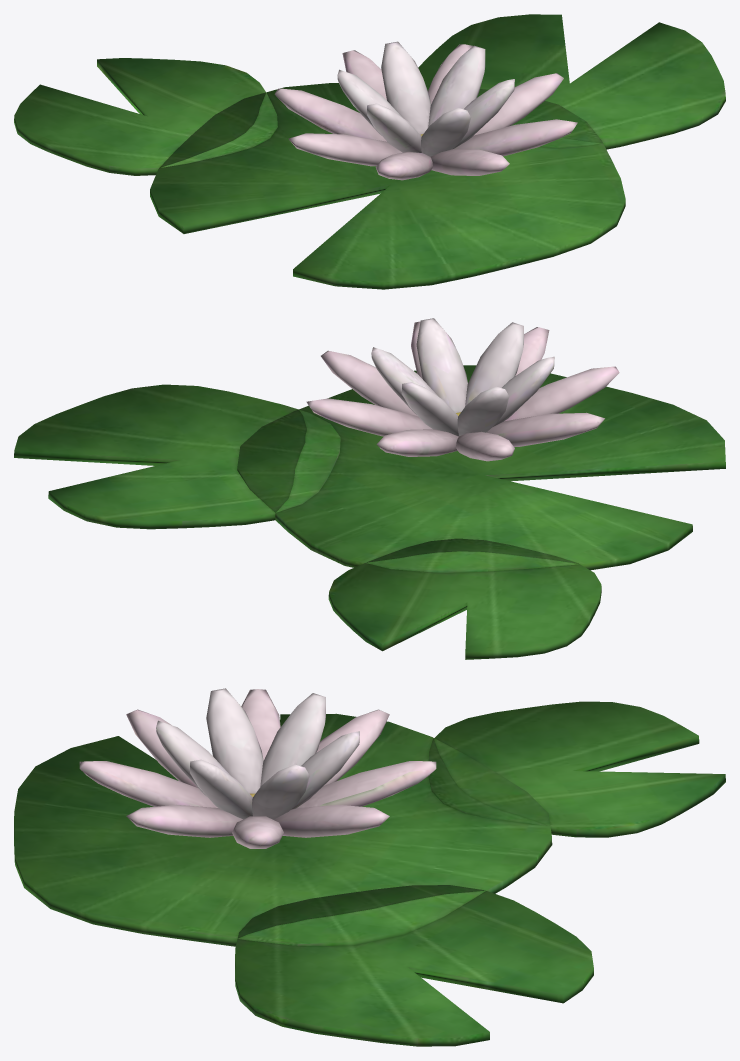
Rendered from lily.glb.
3 views of the same model, one above another, from view 1: azimuth 30°, elevation 25°; view 2: azimuth 150°, elevation 25°; view 3: azimuth 270°, elevation 25° (orthographic). The views are drawn at different scales.
Parts seen in each view (by area): view 1: lily; view 2: lily; view 3: lily.
Boxes of the visible parts, x1,y1,x2,y2 form: lily: [14, 14, 725, 289]; lily: [14, 318, 725, 659]; lily: [14, 688, 725, 1046].
Size of the model in its own units: 1.07 by 0.1921 by 0.9509.
1 material, 1 textured.
